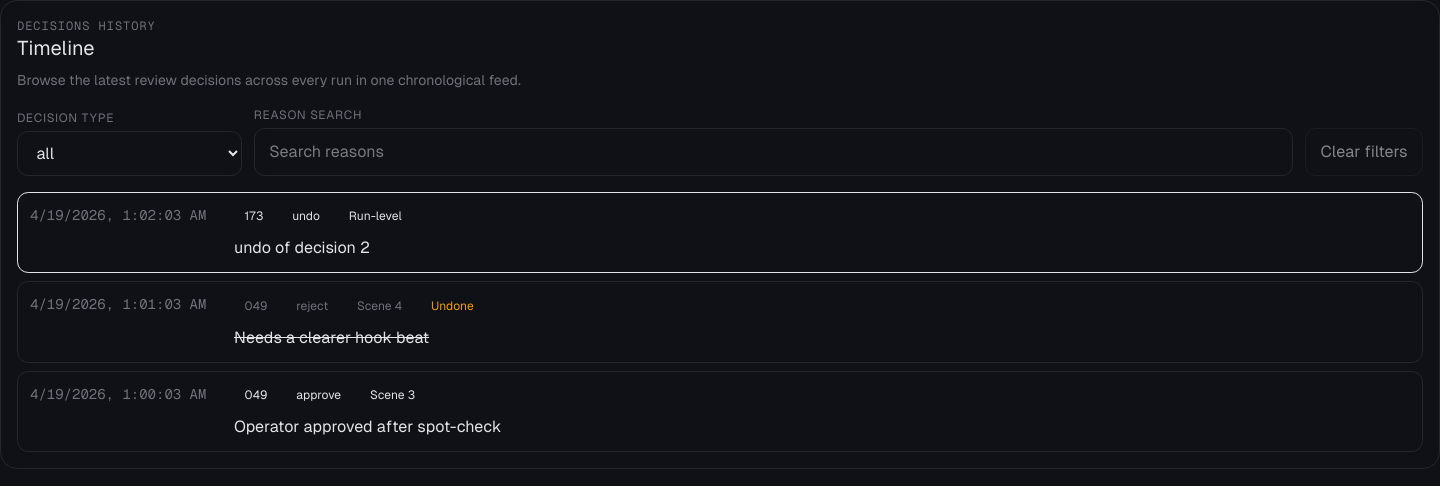
Scenario: TimelineView › filters by decision type and clear restores the full page without extra fetches
Check: the text "Operator approved after spot-check" is shown, box [234,417,501,436]
Select "reject" in the dropdown named "decision type filter": (129, 154) [17,131,242,176]
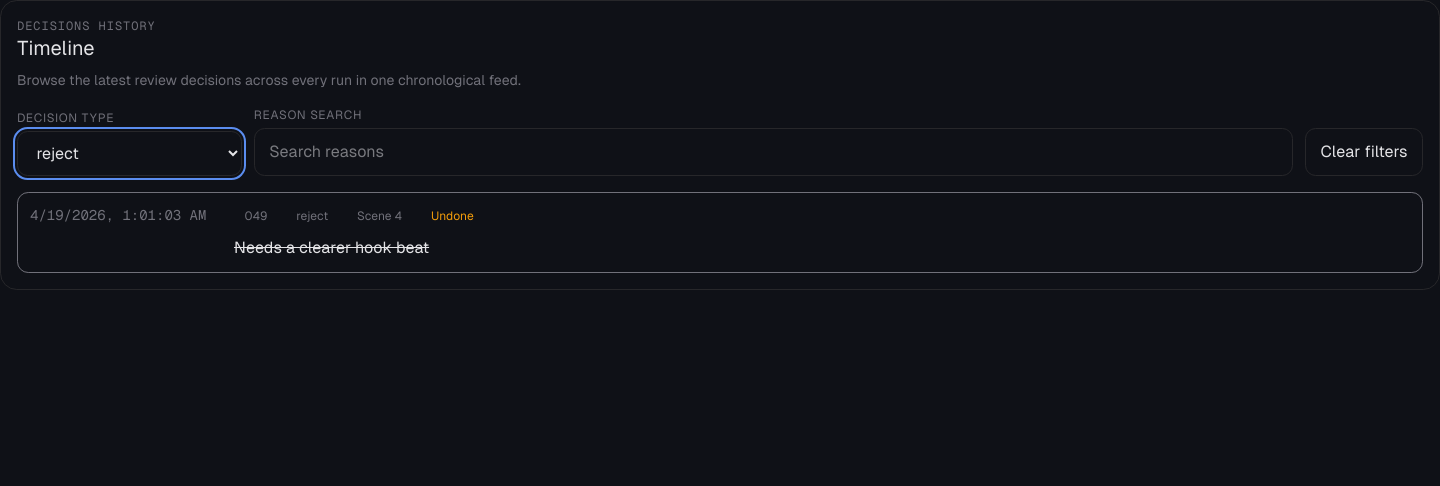
Check: the text "Needs a clearer hook beat" is shown, box [234,238,429,257]
Check: the option "Operator approved after spot-check" is gone
Click the button "Clear filters": (1364, 152) [1305,128,1423,176]
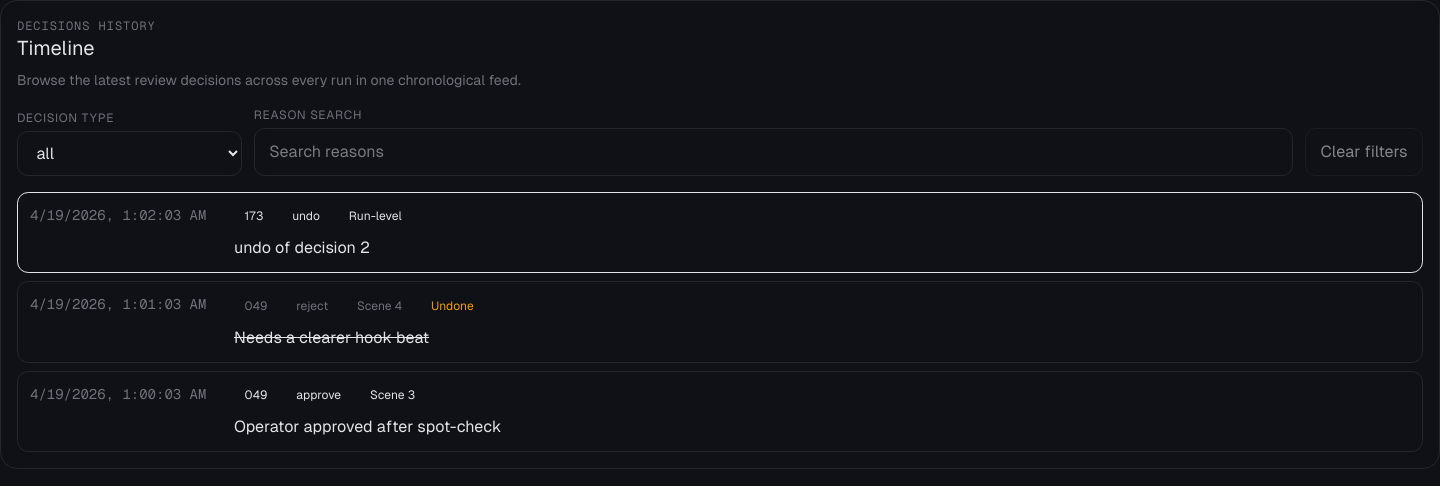
Check: the text "Operator approved after spot-check" is shown, box [234,417,501,436]
